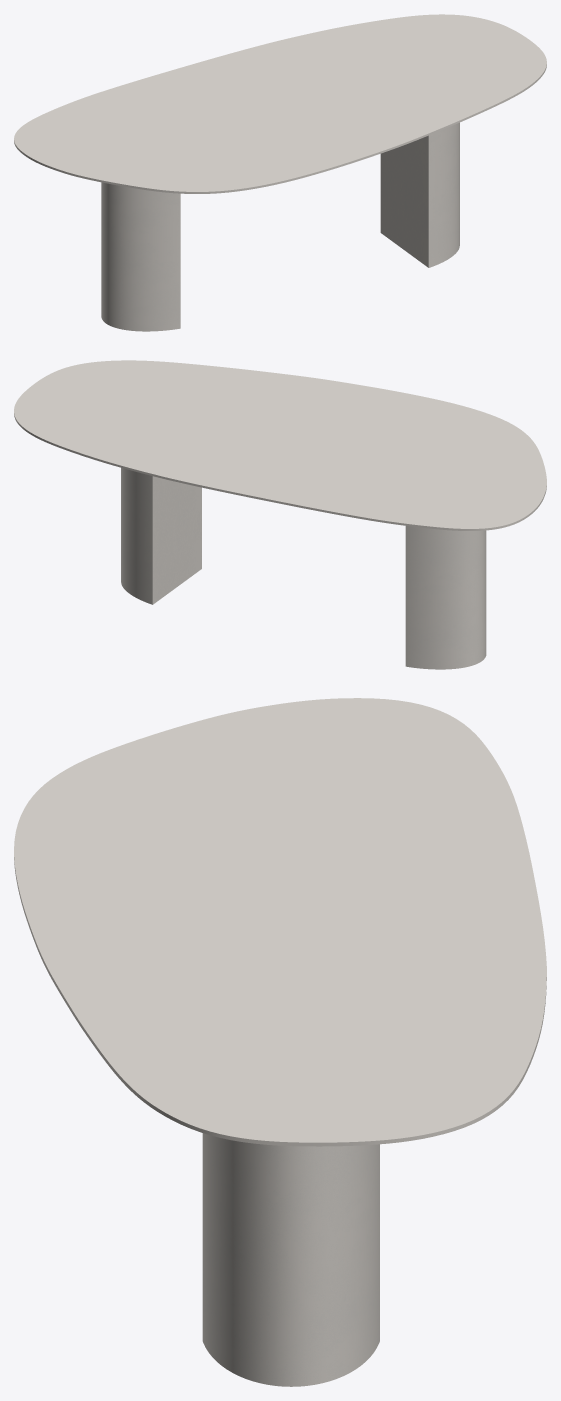
File: pearlwhite_leaf2_facet_hillside.glb
3 renders of one model, top to bottom at view 1: azimuth 30°, elevation 25°; view 2: azimuth 150°, elevation 25°; view 3: azimuth 270°, elevation 25°, orthographic. The views are drawn at different scales.
Parts seen in each view (by area): view 1: facet_leaf2, hillside; view 2: facet_leaf2, hillside; view 3: facet_leaf2, hillside.
Boxes of the visible parts, <box> form: facet_leaf2: <box>14,14,546,193</box>; hillside: <box>101,122,459,331</box>; facet_leaf2: <box>14,360,546,530</box>; hillside: <box>121,468,486,669</box>; facet_leaf2: <box>14,698,546,1146</box>; hillside: <box>202,1133,379,1386</box>.
Bounding box in the file's own units: 7.5 × 2.5 × 3.8.
1 material, 1 textured.
